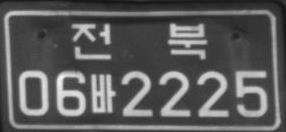0: (17, 69, 49, 116)
2: (120, 70, 153, 117), (196, 70, 229, 117), (158, 69, 190, 117)
5: (234, 70, 268, 117)
6: (55, 69, 87, 117)
바: (89, 73, 117, 114)
전북_D: (70, 22, 209, 60)
